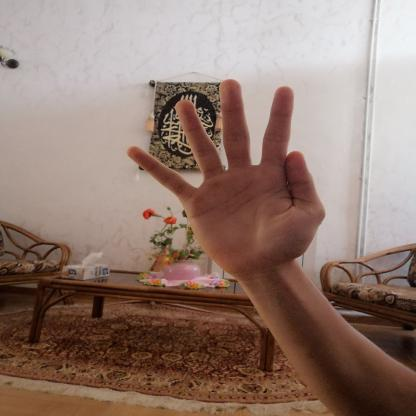SHEEN: (112, 68, 337, 288)
